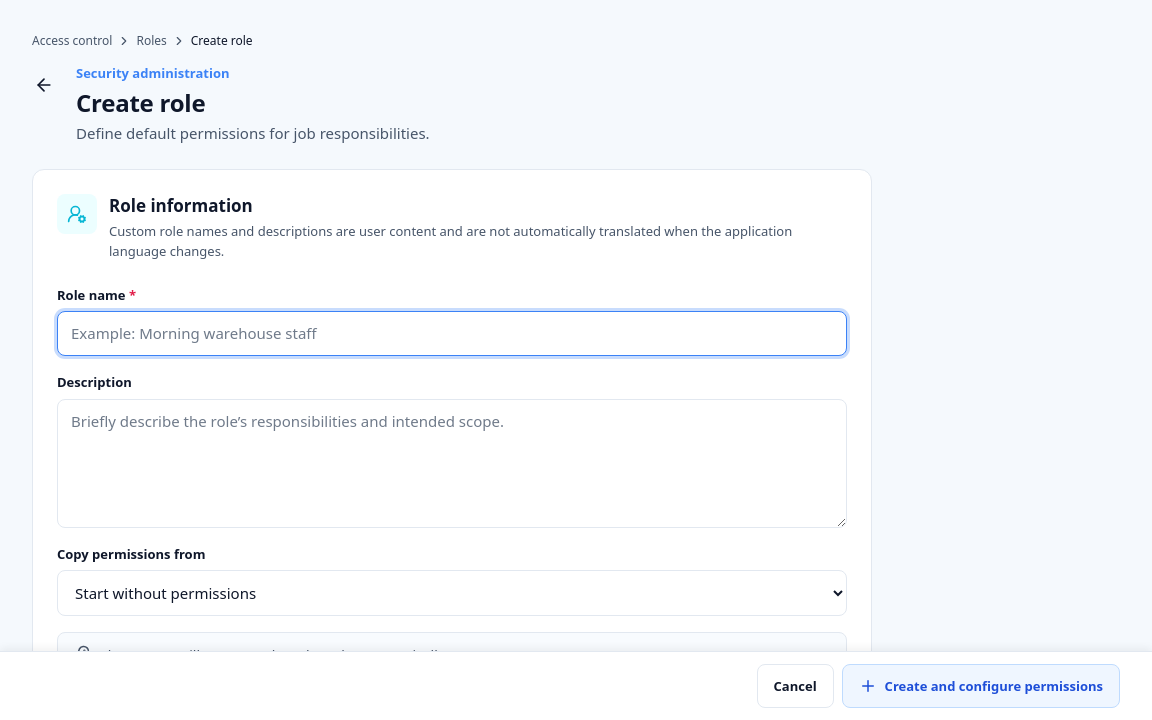
Scenario: Role management pages › reports invalid role submission through a toast instead of a page banner
Click the button "Create and configure permissions": (981, 686) [842,664,1120,708]
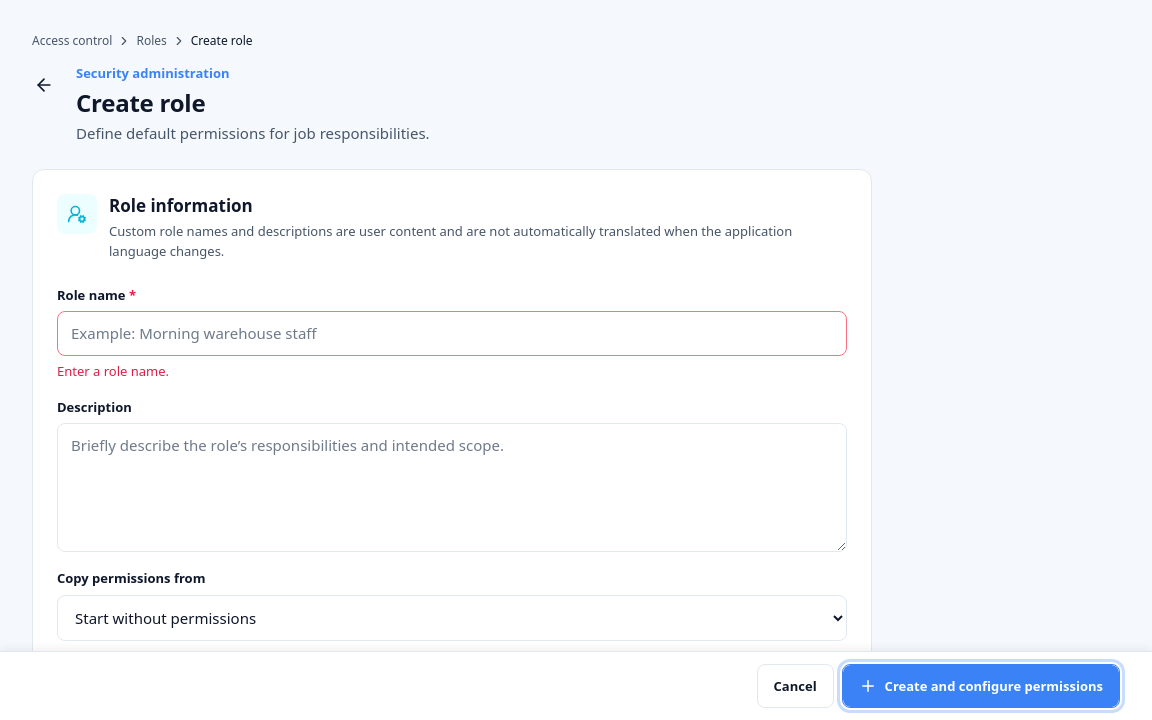
expect the text "Enter a role name." is shown: met, box [57,362,169,380]
